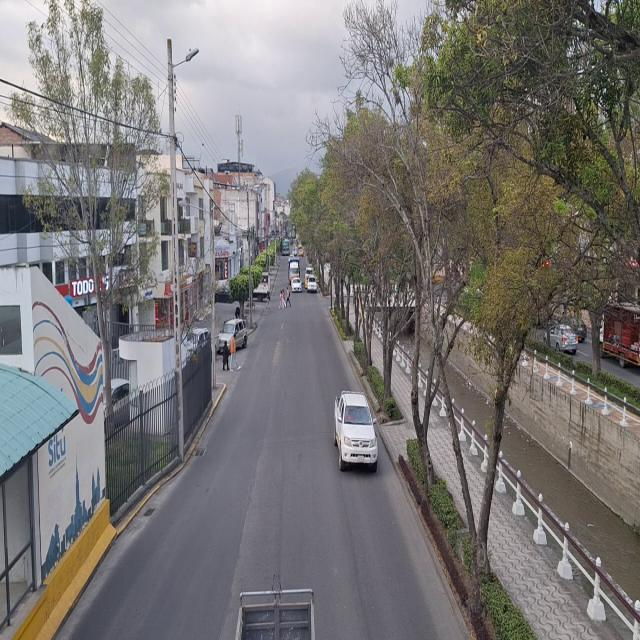CMT: (335, 390, 377, 473)
SUV: (220, 319, 247, 352)
